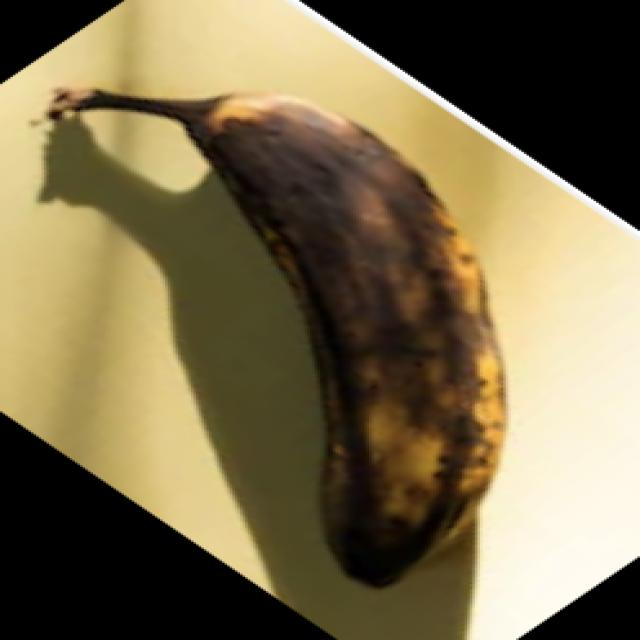Rotten: (40, 83, 505, 592)
